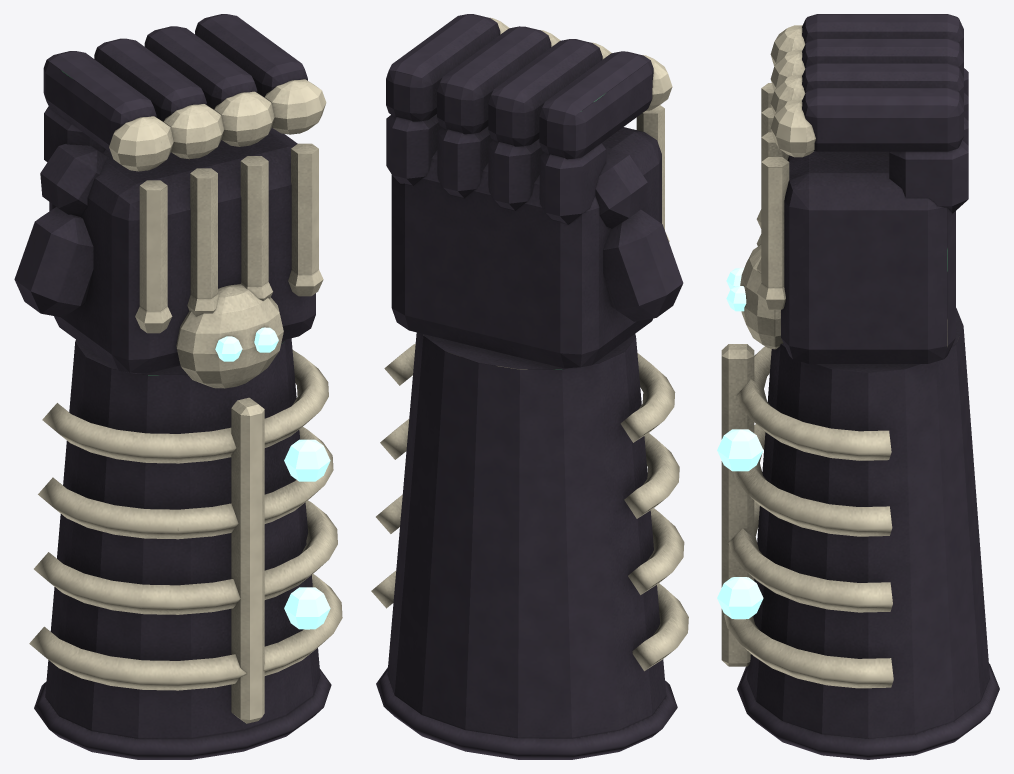
Rendered from 09_dead_gauntlet.fbx.
The picture shows the model from 3 angles, left to right: view 1: azimuth 30°, elevation 25°; view 2: azimuth 150°, elevation 25°; view 3: azimuth 270°, elevation 25°; orthographic projection.
Parts seen in each view (by area): view 1: Weapon; view 2: Weapon; view 3: Weapon.
Boxes of the visible parts, left/top/right/bottom form: Weapon: left=14, top=14, right=342, bottom=759; Weapon: left=371, top=14, right=688, bottom=759; Weapon: left=717, top=14, right=999, bottom=759.
Bounding box in the file's own units: 24.25 × 50.4 × 20.06.
Materials: 2 (1 with a texture image).
